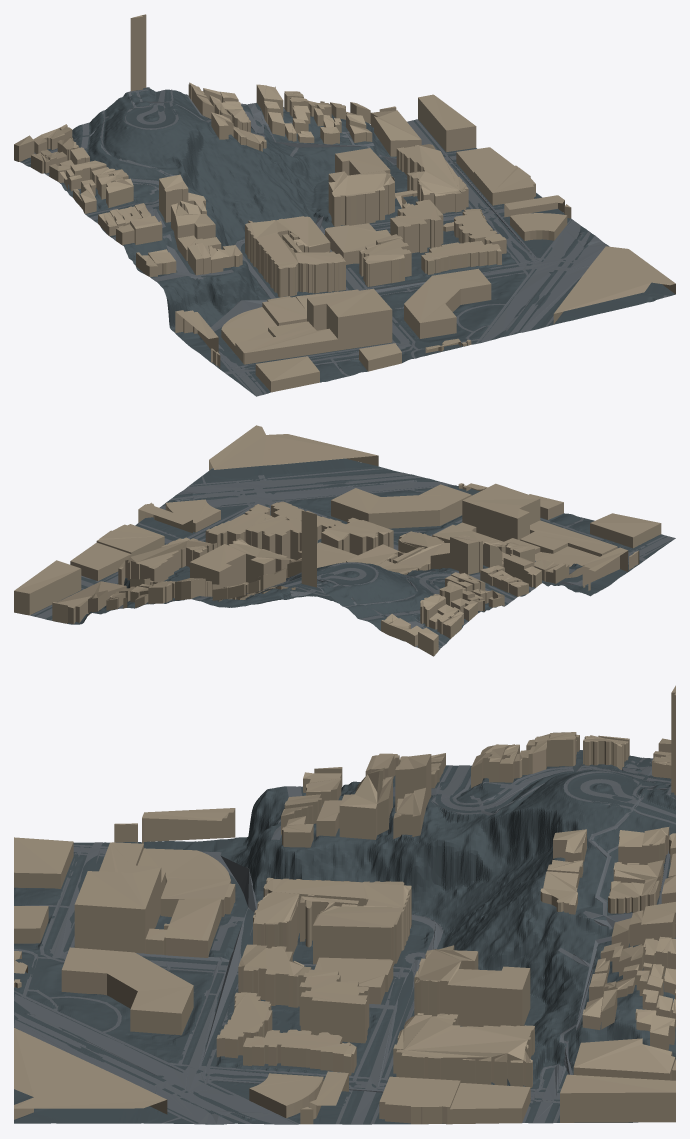
The model's file is epsg26910-1438-10896.lod0.glb.
3 renders of one model, top to bottom at view 1: azimuth 30°, elevation 25°; view 2: azimuth 150°, elevation 25°; view 3: azimuth 270°, elevation 25°, orthographic. The views are drawn at different scales.
Visible parts, largest first — view 1: epsg26910-1438-10896-lod0; view 2: epsg26910-1438-10896-lod0; view 3: epsg26910-1438-10896-lod0.
Part boxes in pixels (left/top/right/bottom): epsg26910-1438-10896-lod0: left=14, top=14, right=675, bottom=396; epsg26910-1438-10896-lod0: left=14, top=425, right=675, bottom=656; epsg26910-1438-10896-lod0: left=14, top=685, right=675, bottom=1124.
Size of the model in its own units: 384 by 154 by 384.
